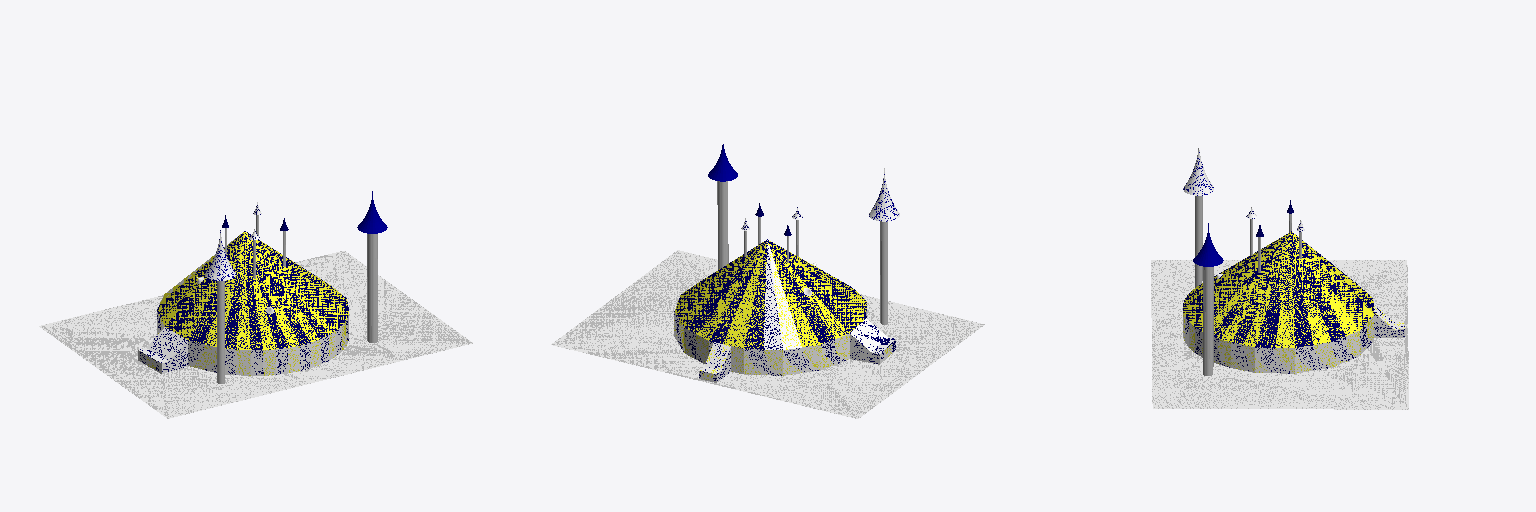
Rendered from carpa.obj.
3 renders of one model, left to right at view 1: azimuth 30°, elevation 25°; view 2: azimuth 150°, elevation 25°; view 3: azimuth 270°, elevation 25°, orthographic.
Size of the model in its own units: 17522 by 8608 by 12732.